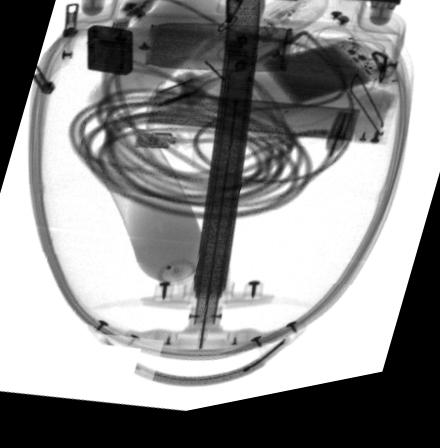Lighter: (87, 27, 132, 80)
Powerbank: (239, 49, 400, 129)
Sprayer: (92, 134, 208, 310)
